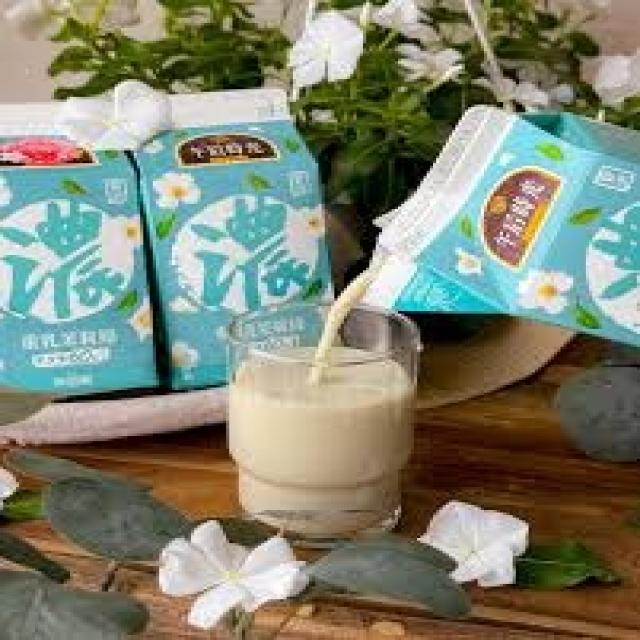Known_MilkGreenTea: (132, 94, 331, 370), (368, 132, 636, 323), (2, 109, 146, 395)
